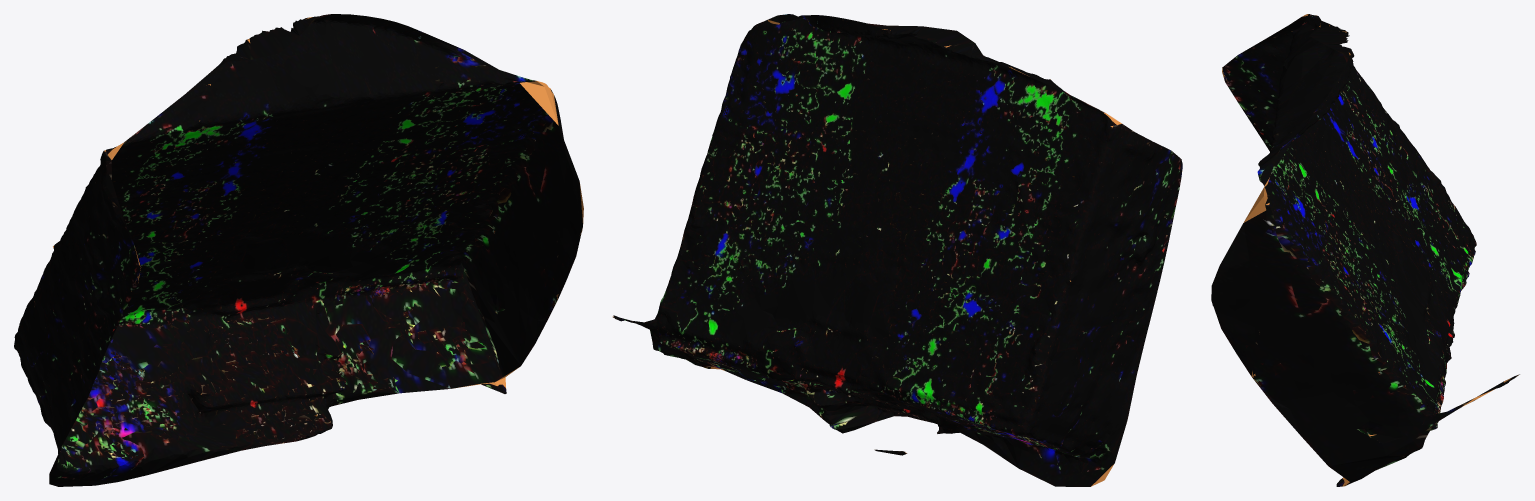
3 renders of one model, left to right at view 1: azimuth 30°, elevation 25°; view 2: azimuth 150°, elevation 25°; view 3: azimuth 270°, elevation 25°, orthographic. The views are drawn at different scales.
Parts seen in each view (by area): view 1: scene_textured; view 2: scene_textured; view 3: scene_textured.
Boxes of the visible parts, bbox=[...] form: scene_textured: bbox=[14, 14, 583, 486]; scene_textured: bbox=[612, 14, 1182, 486]; scene_textured: bbox=[1211, 14, 1519, 486].
Bounding box in the file's own units: 2.67 × 2.39 × 1.82.
1 material, 1 textured.
